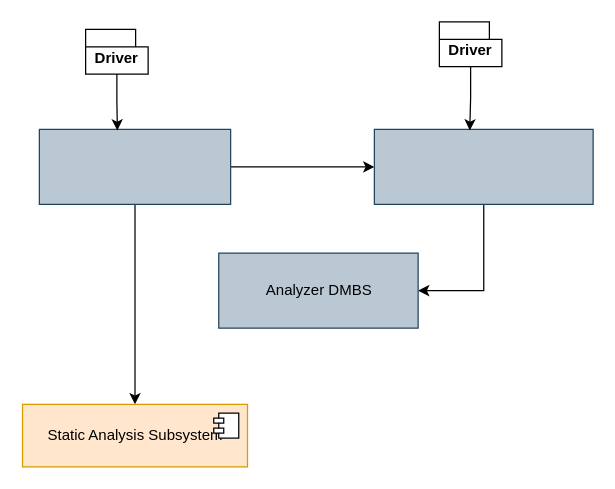
Image size: 615x489. Some labels were removed from this diagram. The shapes that lost their labels are listed below. From the top down, each one's box as (x1, y1, x2, y2) in pixels, then its label:
(38, 128, 231, 204): Scanner
(373, 128, 593, 204): Analysis Server
